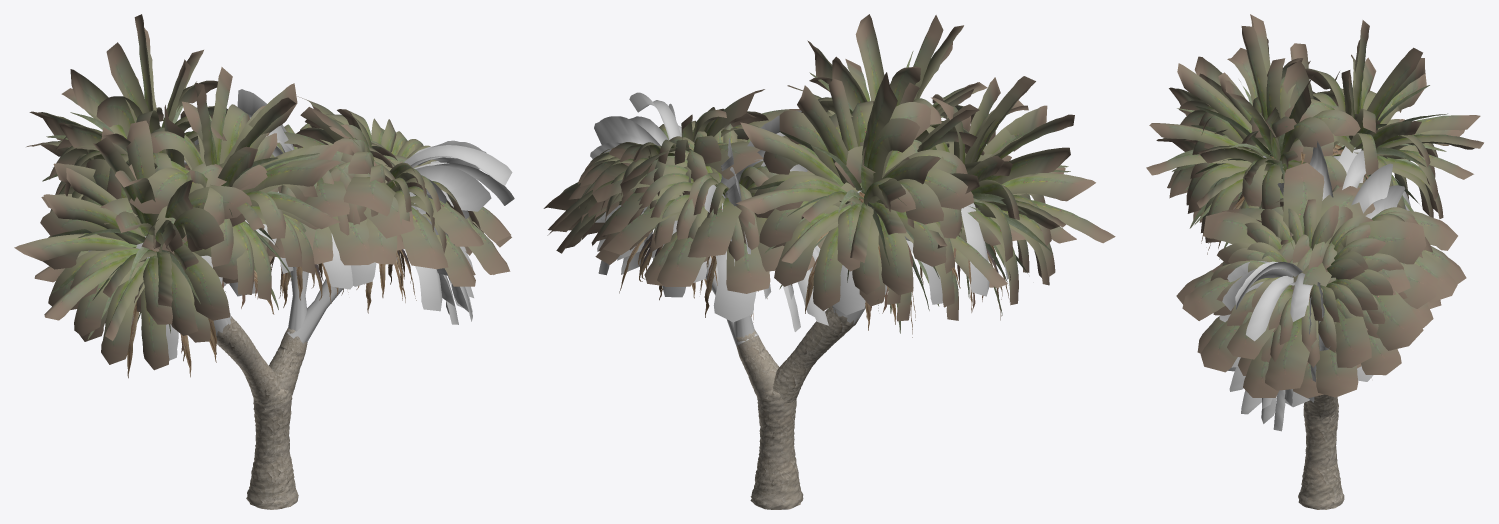
File: FBX_AF08_DracaenaDraco_2.fbx
3 views of the same model, side by side, from view 1: azimuth 30°, elevation 25°; view 2: azimuth 150°, elevation 25°; view 3: azimuth 270°, elevation 25° (orthographic). The views are drawn at different scales.
Parts seen in each view (by area): view 1: Leaf02_2, Leaf05_2, Bark01_2, Leaf01_2, Leaf04_2, Bark02_2; view 2: Leaf02_2, Leaf05_2, Bark01_2, Leaf01_2, Leaf04_2, Bark02_2; view 3: Leaf02_2, Leaf05_2, Bark01_2, Leaf01_2.
Boxes of the visible parts, x1,y1,x2,y2 form: Leaf02_2: (14, 14, 511, 370); Leaf05_2: (88, 89, 514, 360); Bark01_2: (216, 315, 307, 509); Leaf01_2: (42, 81, 319, 339); Leaf04_2: (127, 249, 416, 378); Bark02_2: (213, 267, 343, 343); Leaf02_2: (543, 14, 1115, 321); Leaf05_2: (590, 92, 1008, 331); Bark01_2: (736, 306, 858, 509); Leaf01_2: (749, 51, 1070, 333); Leaf04_2: (619, 191, 1009, 337); Bark02_2: (705, 236, 909, 345); Leaf02_2: (1146, 14, 1483, 398); Leaf05_2: (1219, 141, 1410, 431); Bark01_2: (1298, 394, 1344, 509); Leaf01_2: (1168, 80, 1447, 259).
Bounding box in the file's own units: 570 × 521 × 377.
